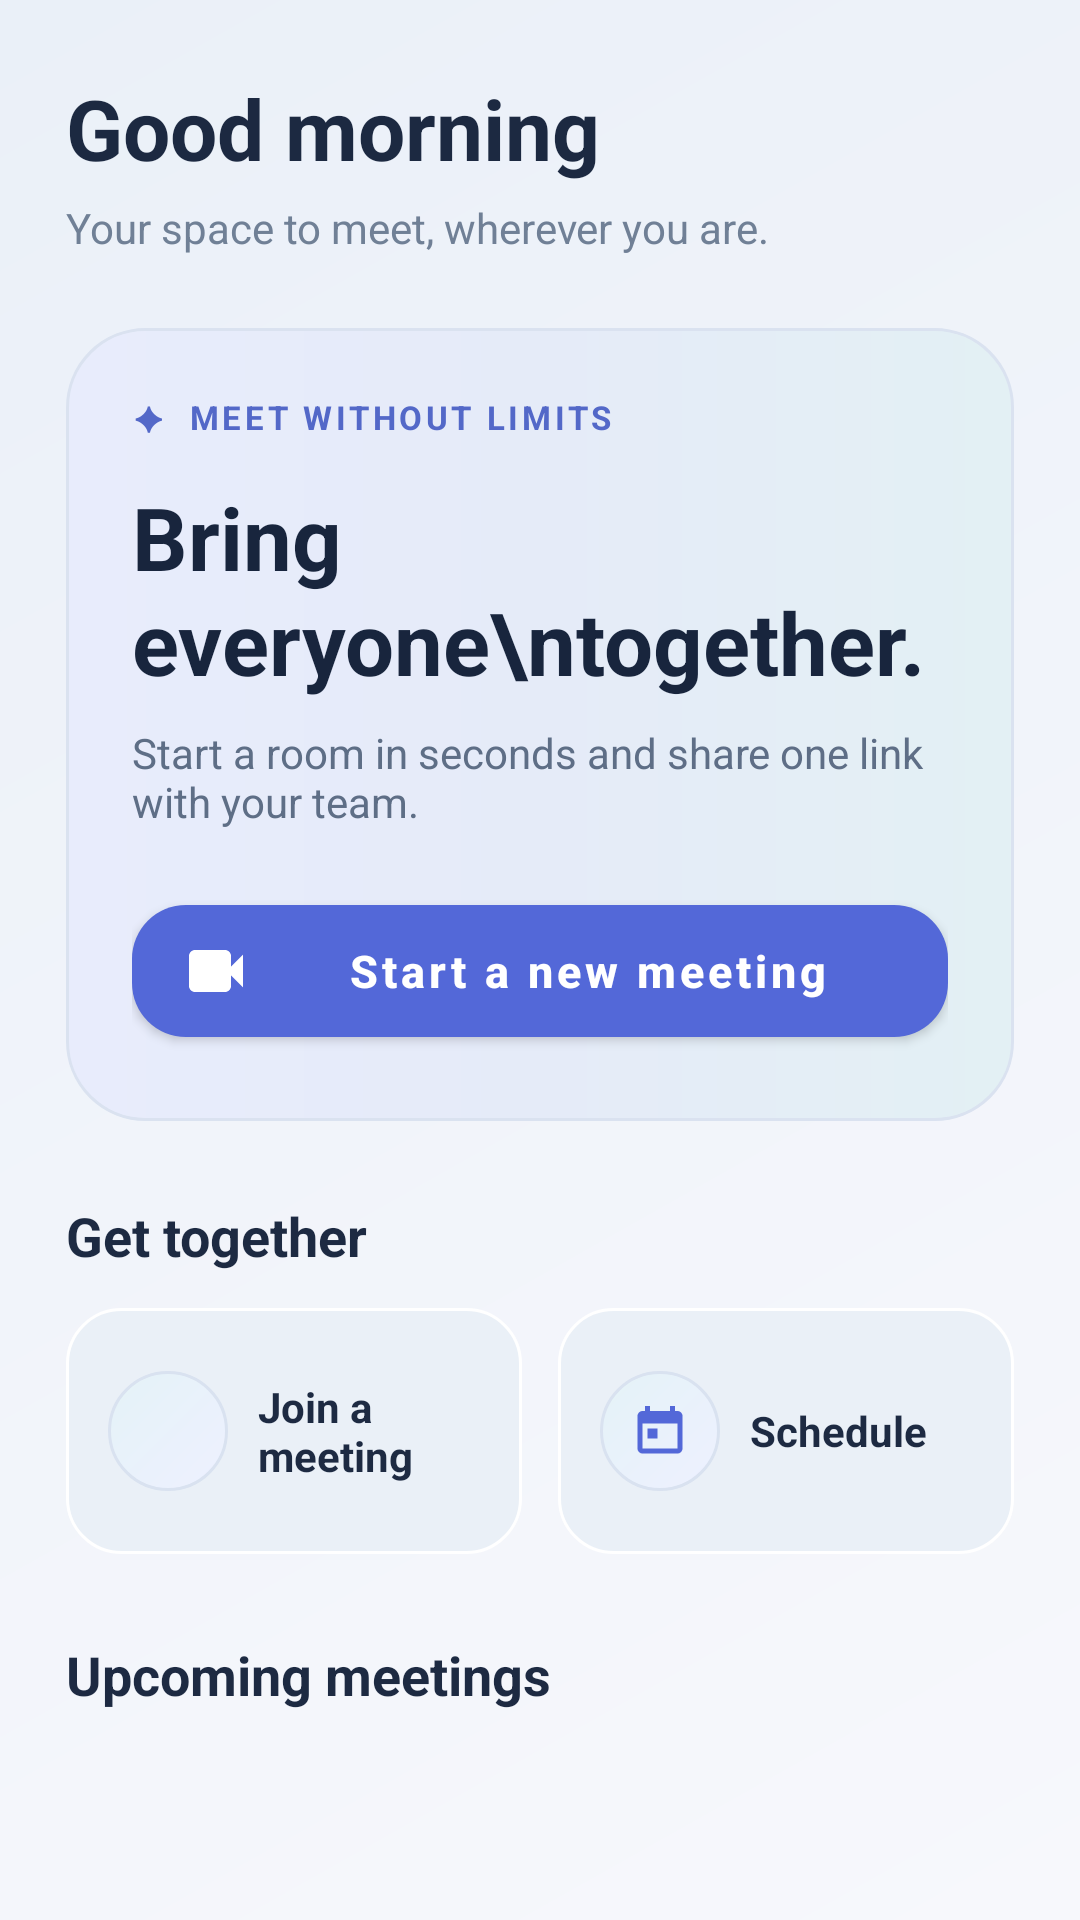

Where icons sit on this 1080 x 1920 app screen, as (x1, y1, x2, y2):
calendar modern: (637, 1406, 683, 1454)
